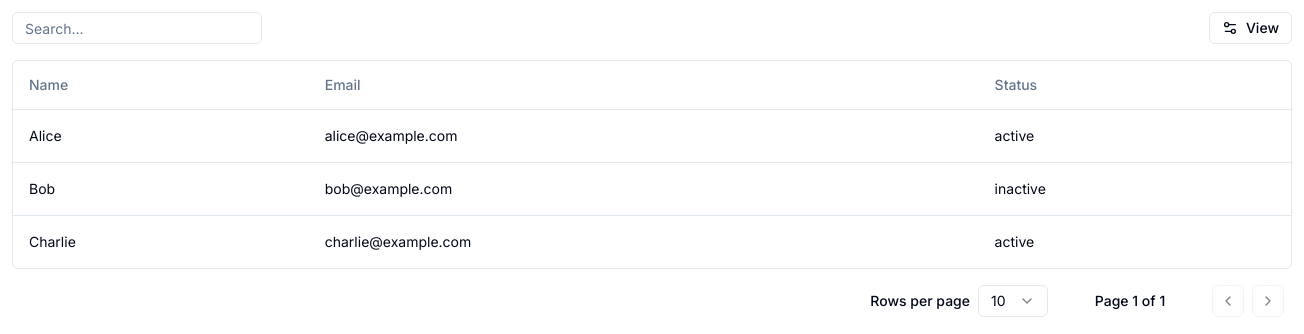
it: DataTable › search functionality › filters data when search input is used
The image size is (1304, 334).
Type "Alice" into the field with placeholder "Search..." at (137, 28), box [12,12,262,44]
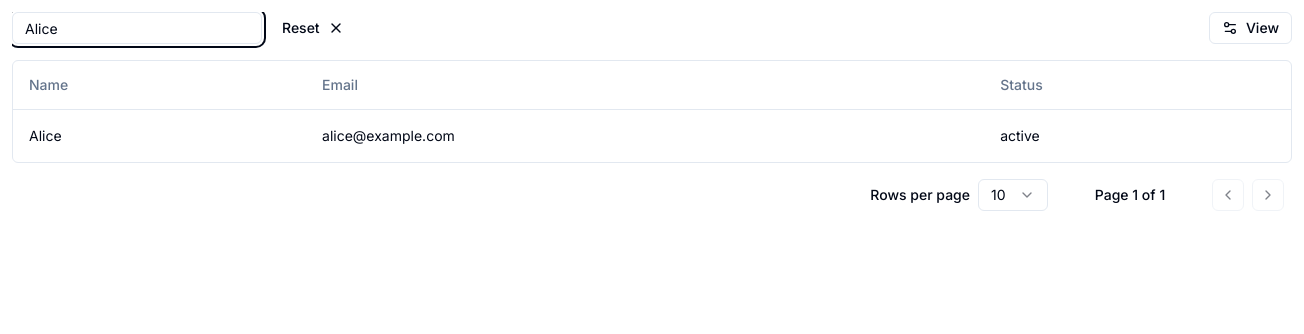
Expected: the text "Alice" is shown, [13,109,306,162]
Expected: the text "Bob" is gone
Expected: the text "Charlie" is gone
